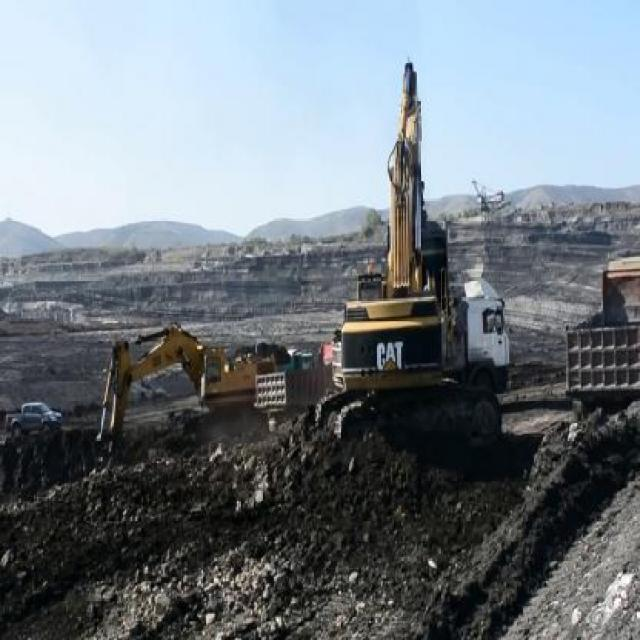Dump Truck: (564, 250, 639, 432), (253, 348, 336, 432), (457, 277, 512, 385)
Excavator: (316, 59, 506, 444), (97, 322, 260, 451)
